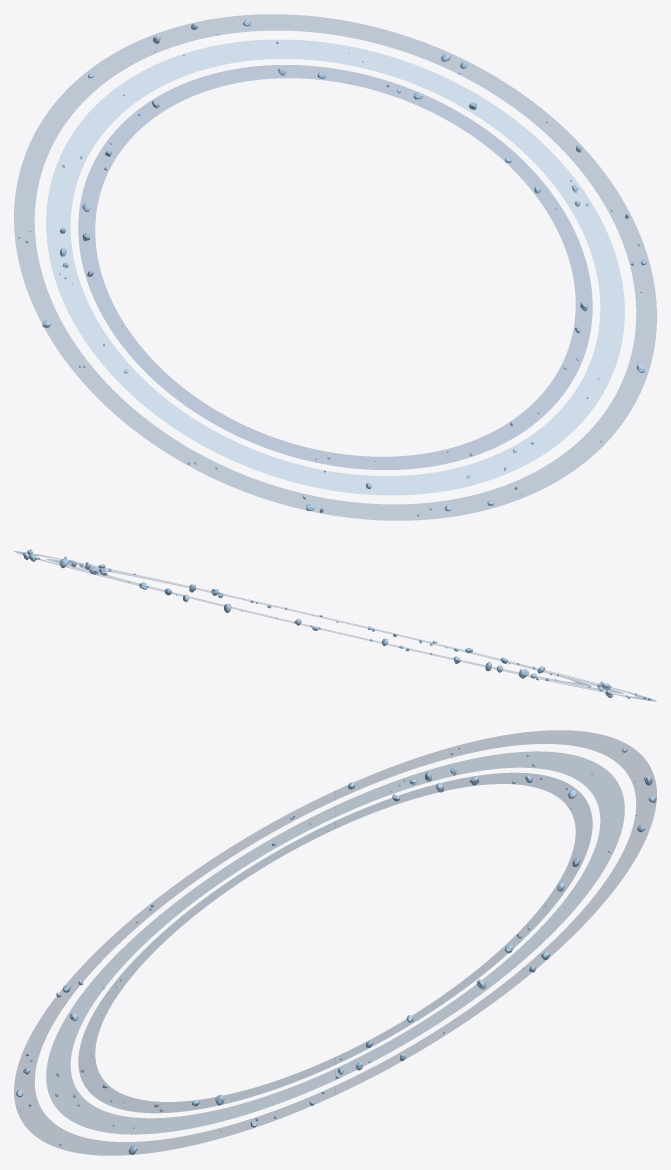
Rendered from anillos.obj.
3 views of the same model, one above another, from view 1: azimuth 30°, elevation 25°; view 2: azimuth 150°, elevation 25°; view 3: azimuth 270°, elevation 25° (orthographic). The views are drawn at different scales.
Parts seen in each view (by area): view 1: Umbriel_|_banda_de_hielo_02, Umbriel_|_banda_de_hielo_03, Umbriel_|_banda_de_hielo_01; view 2: Umbriel_|_banda_de_hielo_02, Umbriel_|_banda_de_hielo_01, Umbriel_|_banda_de_hielo_03; view 3: Umbriel_|_banda_de_hielo_02, Umbriel_|_banda_de_hielo_03, Umbriel_|_banda_de_hielo_01.
Boxes of the visible parts, x1,y1,x2,y2 form: Umbriel_|_banda_de_hielo_02: [46, 39, 624, 495]; Umbriel_|_banda_de_hielo_03: [14, 14, 656, 520]; Umbriel_|_banda_de_hielo_01: [78, 65, 592, 469]; Umbriel_|_banda_de_hielo_02: [46, 558, 624, 693]; Umbriel_|_banda_de_hielo_01: [78, 566, 592, 686]; Umbriel_|_banda_de_hielo_03: [14, 551, 656, 701]; Umbriel_|_banda_de_hielo_02: [46, 751, 624, 1134]; Umbriel_|_banda_de_hielo_03: [14, 730, 656, 1155]; Umbriel_|_banda_de_hielo_01: [78, 772, 592, 1113].
Size of the model in its own units: 3.4 by 1.55 by 3.03.
